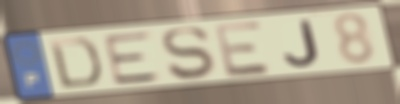8: (330, 11, 377, 68)
D: (46, 36, 104, 91)
E: (211, 19, 275, 79), (101, 29, 167, 87)
J: (281, 19, 322, 69)
S: (158, 25, 217, 82)
